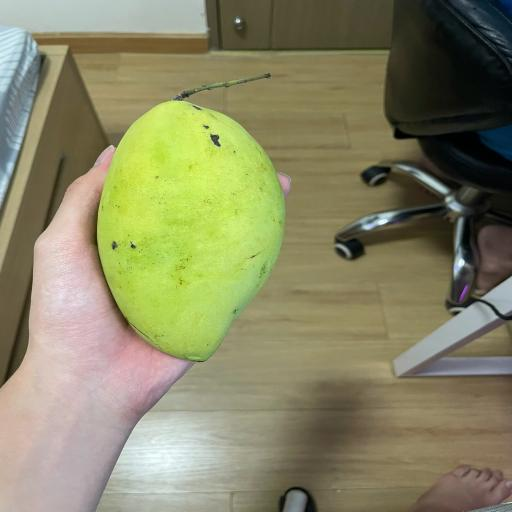xoai: (97, 101, 285, 361)
